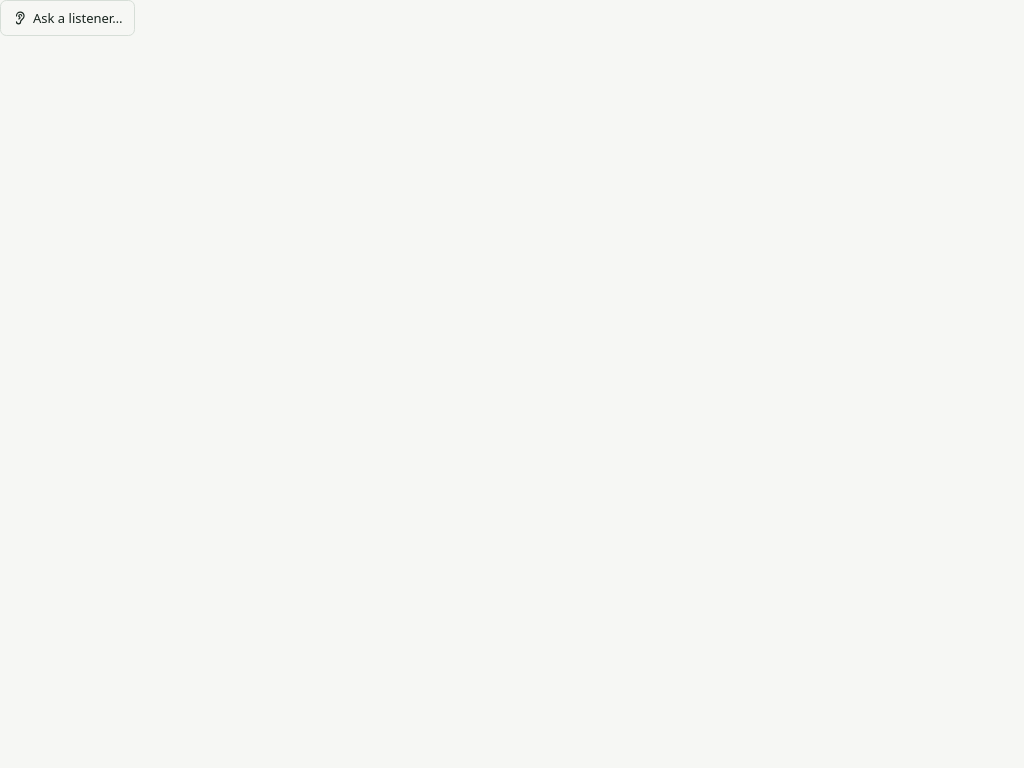
Ask a listener (14.4) › fills the buddy preset and still allows edits
Later steps or results of the test are not shown.
Step 1. Click the button "Ask a listener…" → coordinates (68, 18), box [0,0,135,36]
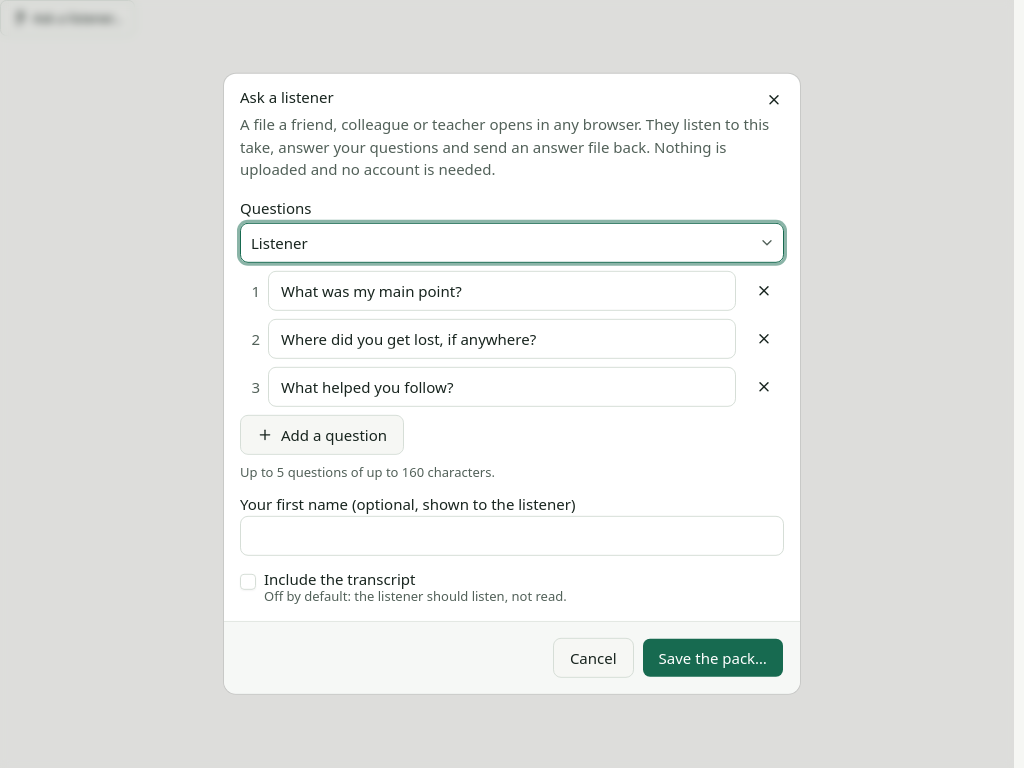
Step 2. Click the dropdown named "Questions" → coordinates (279, 243), box [240,223,784,263]
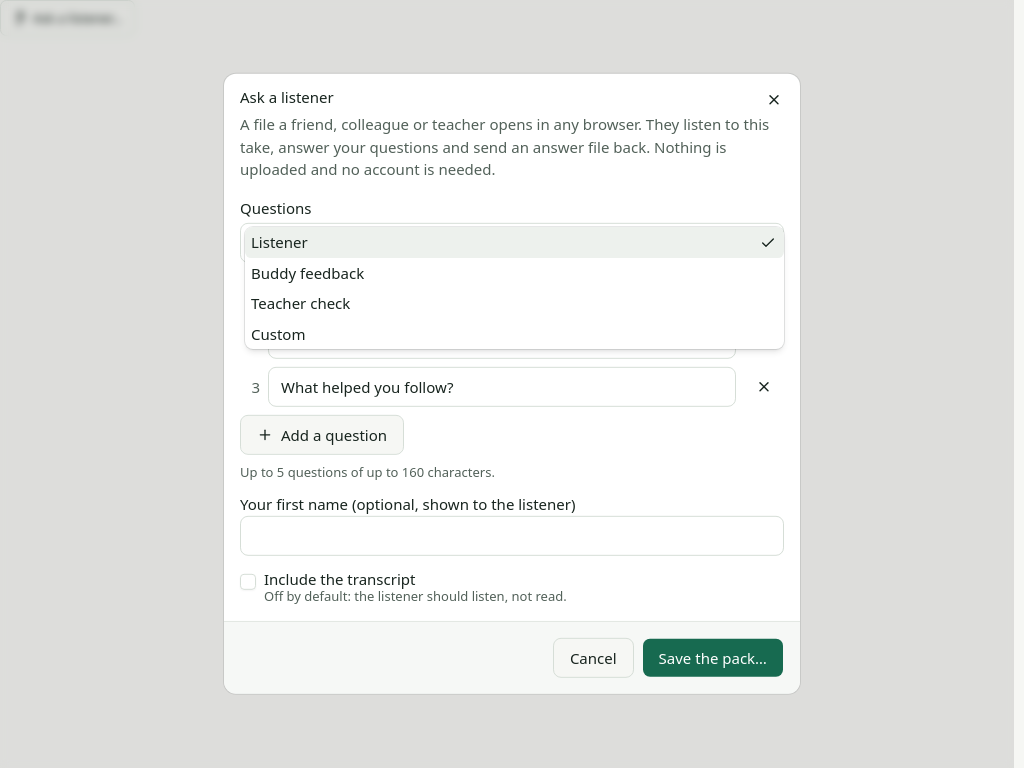
Step 3. Click the option "Buddy feedback" → coordinates (308, 273), box [251,263,364,283]
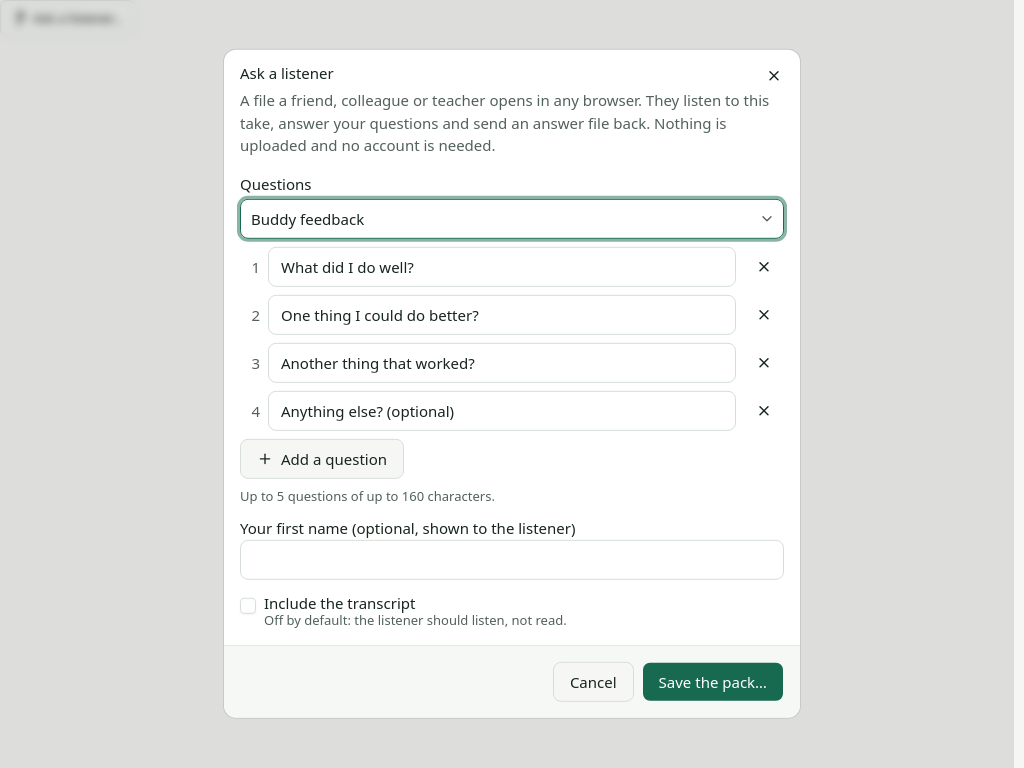
Step 4. Replace the text in the field named "Question 1" with "Which example helped?" → coordinates (502, 267), box [268,247,736,287]
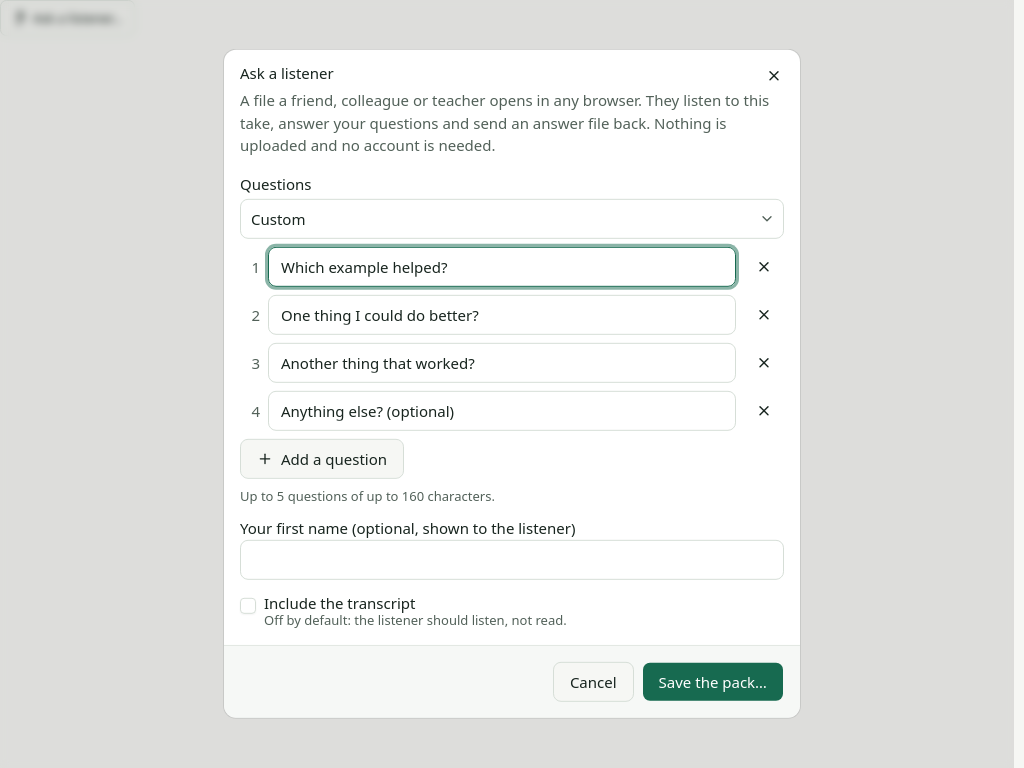
Result: the dropdown named "Questions" reads "Custom" at [240,199,784,239]
